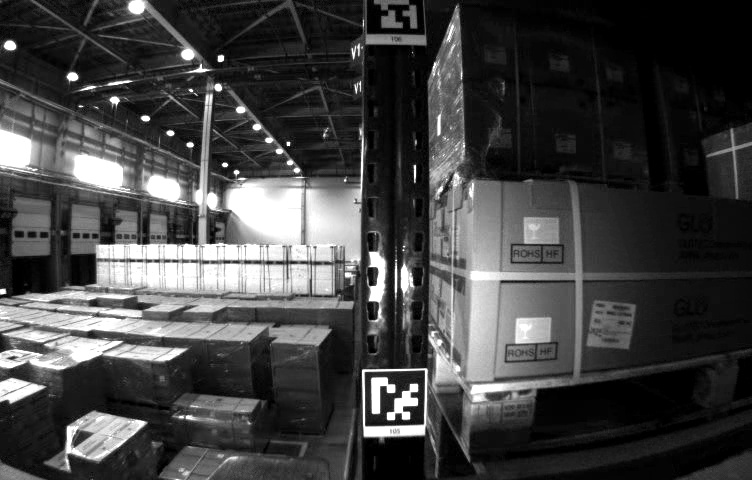True Barcode: (586, 299, 636, 351)
